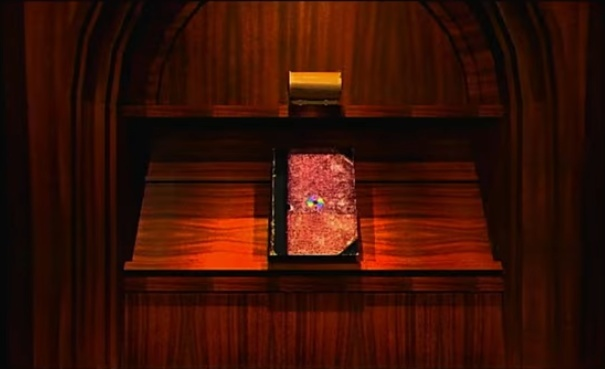Waiting: (304, 189, 326, 213)
